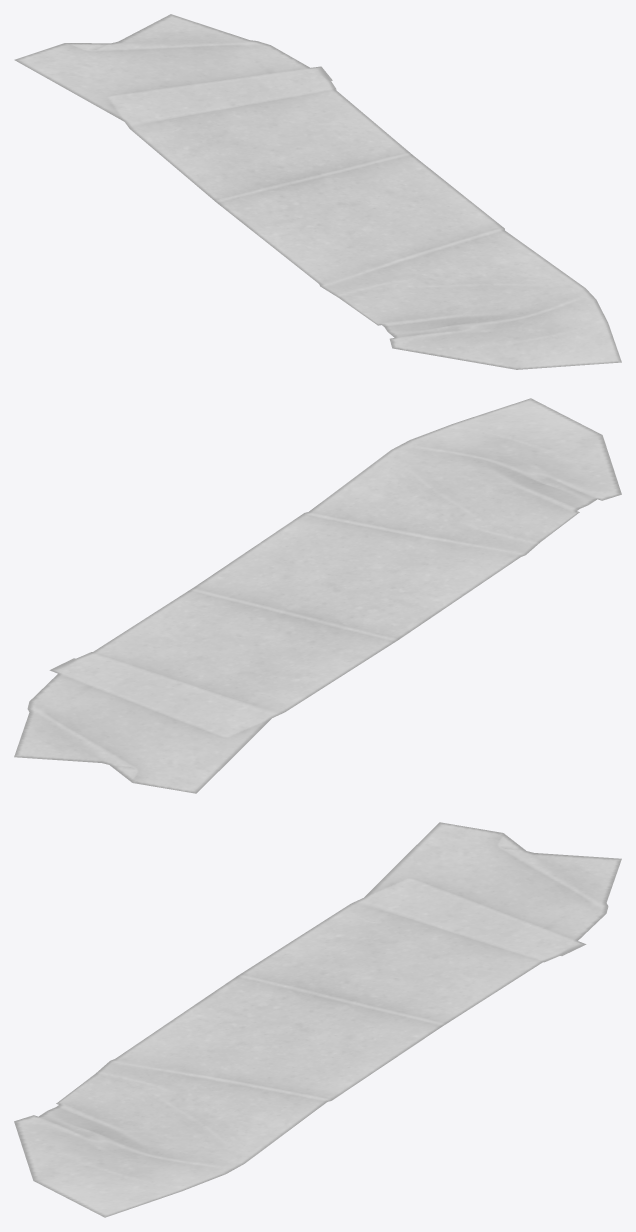
Rendered from Pfb_Canvas_Ground_1x5__4.fbx.
3 renders of one model, top to bottom at view 1: azimuth 30°, elevation 25°; view 2: azimuth 150°, elevation 25°; view 3: azimuth 330°, elevation 25°, orthographic. The views are drawn at different scales.
Visible parts, largest first — view 1: Mat_Canvas_Ground_Dark; view 2: Mat_Canvas_Ground_Dark; view 3: Mat_Canvas_Ground_Dark.
Boxes of the visible parts, x1,y1,x2,y2 form: Mat_Canvas_Ground_Dark: (14, 14, 621, 369); Mat_Canvas_Ground_Dark: (14, 398, 621, 793); Mat_Canvas_Ground_Dark: (14, 822, 621, 1217).
Size of the model in its own units: 1.21 by 0.00538 by 4.17.
1 material, 1 textured.
